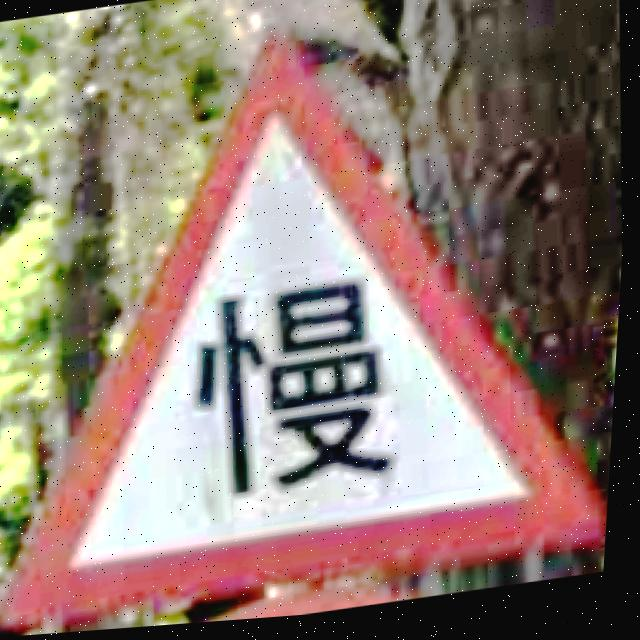slow: (7, 35, 614, 629)
